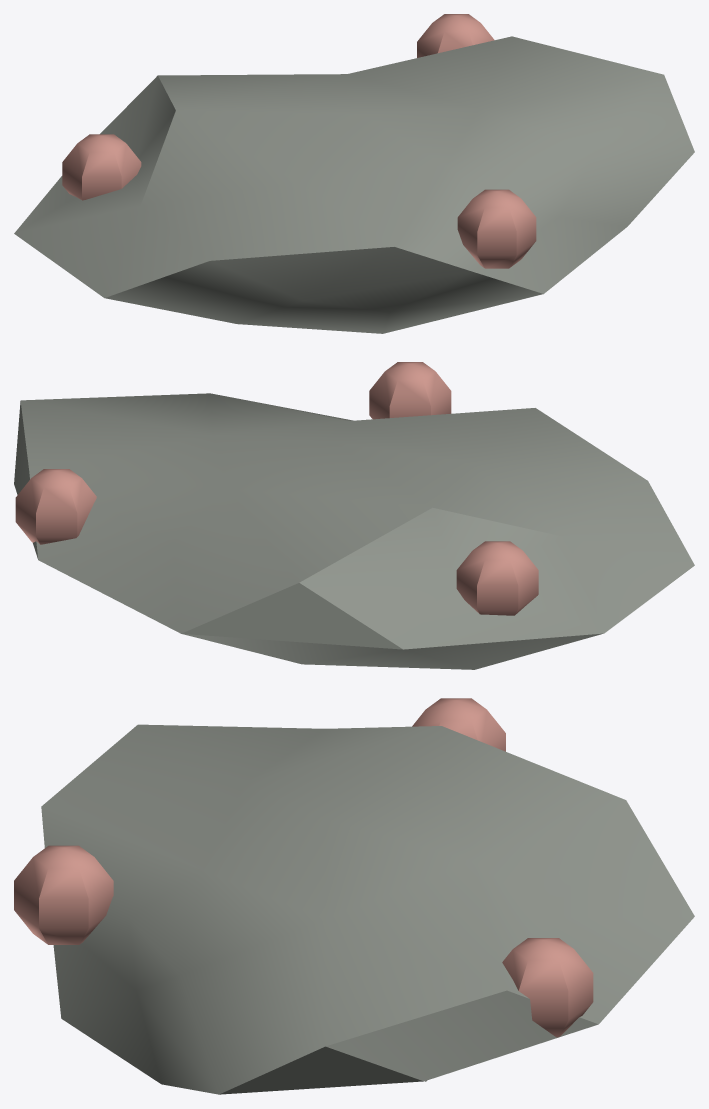
The model's file is nets.gltf.
3 views of the same model, one above another, from view 1: azimuth 30°, elevation 25°; view 2: azimuth 150°, elevation 25°; view 3: azimuth 270°, elevation 25° (orthographic). The views are drawn at different scales.
Parts seen in each view (by area): view 1: Body; view 2: Body; view 3: Body.
Part boxes in pixels (x1,y1,x2,y2): Body: (14,14,694,333); Body: (14,362,694,669); Body: (14,698,694,1094).
Bounding box in the file's own units: 2.02 × 0.514 × 1.56.
